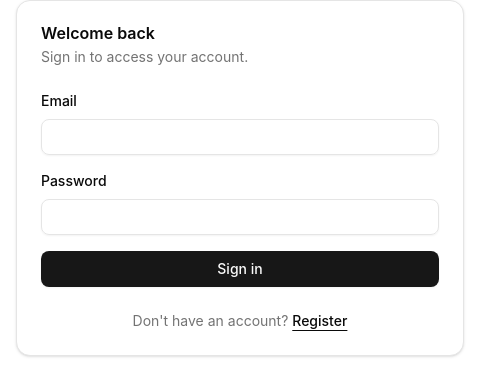
Test: LoginPage › submits valid credentials and disables the button while pending
Type "user@example.com" into the field labelled "Email" at (240, 137), box [41, 119, 439, 155]
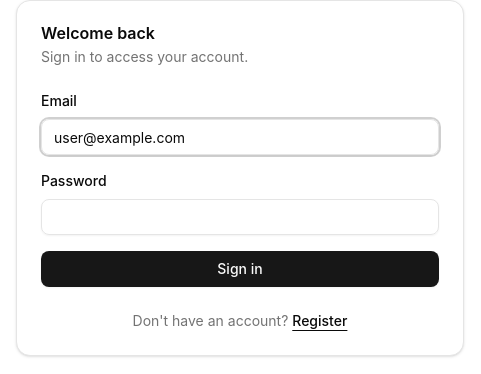
Type "password123" into the password field labelled "Password" at (240, 217), box [41, 199, 439, 235]
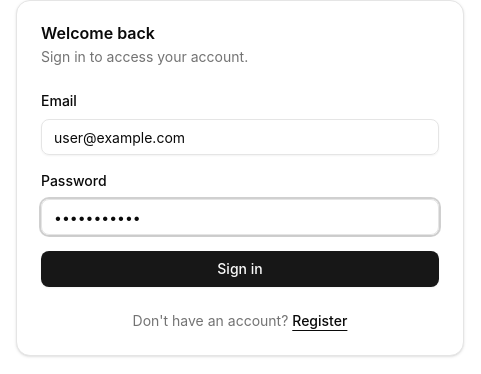
Click the button "Sign in" at (240, 269), box [41, 251, 439, 287]
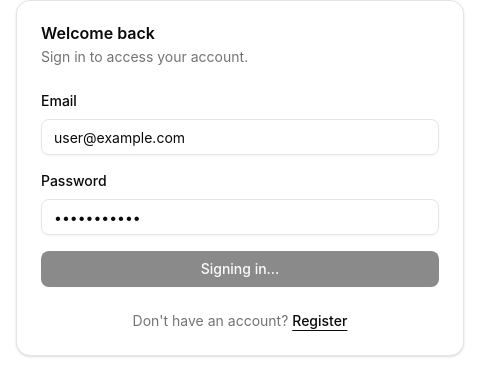
Now the button named "sign in" is disabled, box [41, 251, 439, 287]
